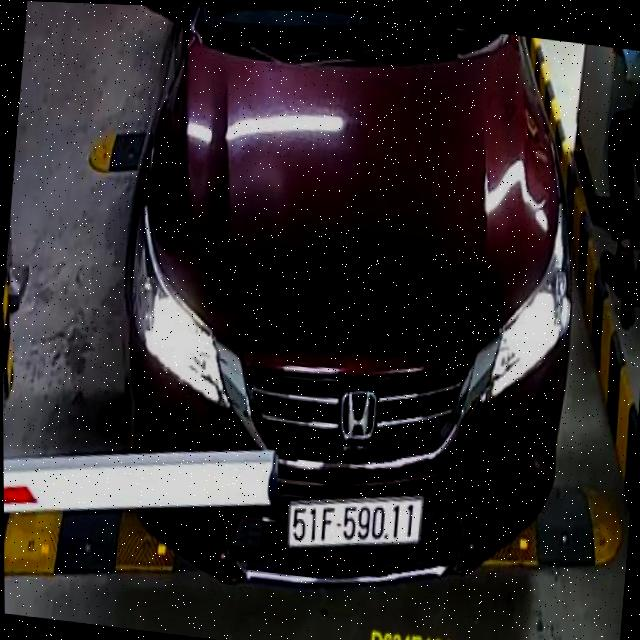car: (75, 3, 601, 623)
plate: (284, 481, 422, 566)
